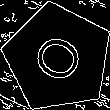O_SE: (25, 27, 90, 89)
